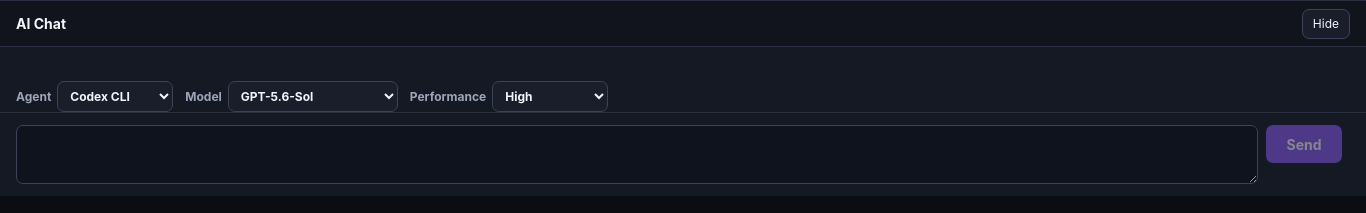
ChatPanel › Model select は選択中 agent の model 候補だけを表示する
The width and height of the screenshot is (1366, 213).
Select "Claude CLI" in the dropdown labelled "Agent" at [115, 96], box x1=57 y1=81 x2=173 y2=112
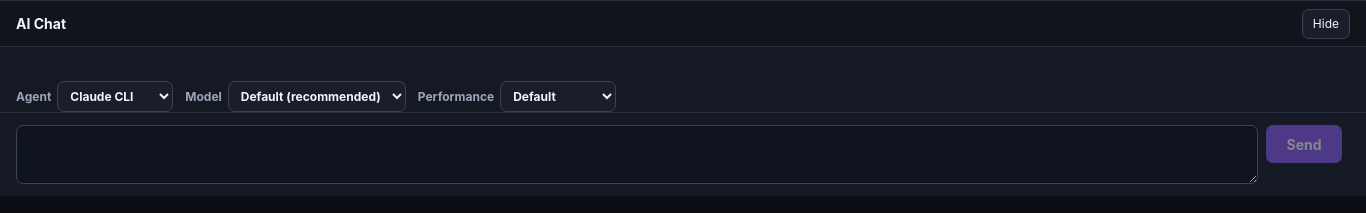
Check: the dropdown labelled "Model" shows "Default (recommended)", box x1=228 y1=81 x2=406 y2=112
